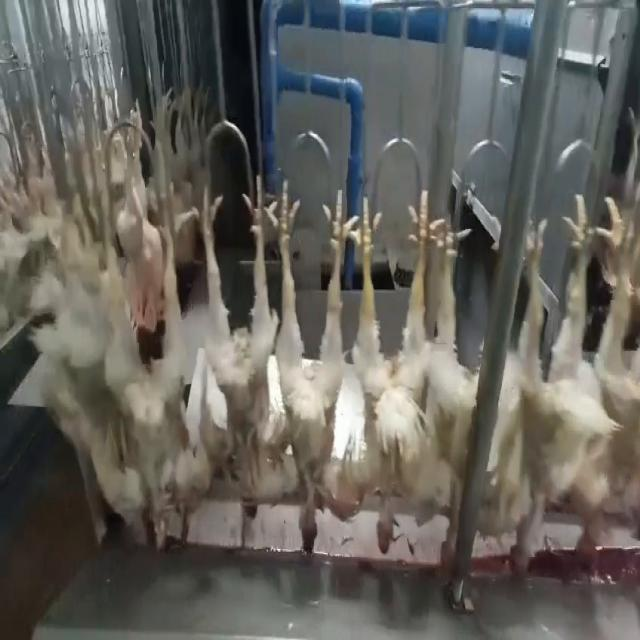chicken: (496, 188, 590, 577), (343, 180, 429, 559), (275, 185, 350, 556), (568, 185, 638, 572), (132, 188, 199, 551), (207, 166, 276, 517), (424, 202, 480, 572)
